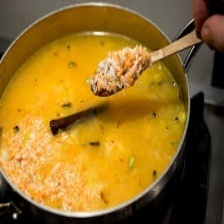dal: (0, 21, 189, 224)
